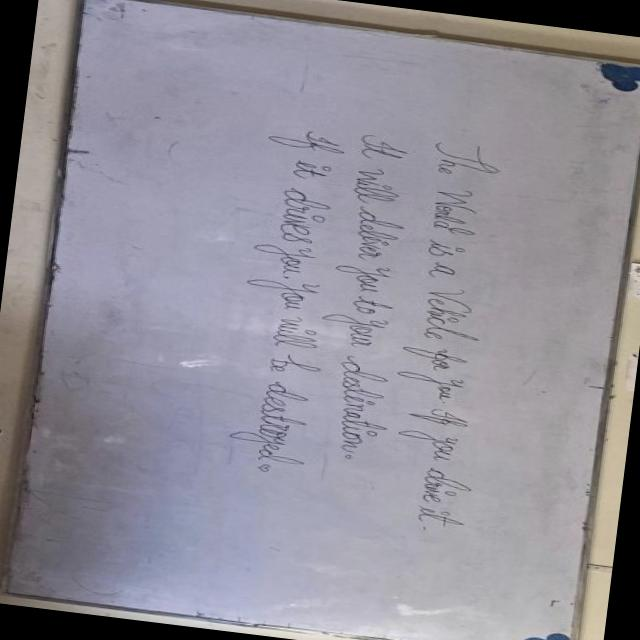White-board: (8, 0, 640, 640)
